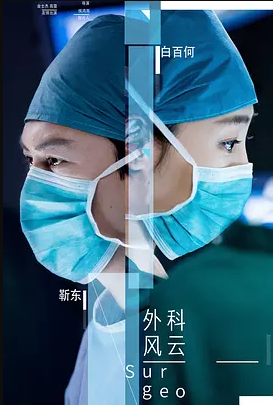mask: (18, 167, 120, 286), (150, 164, 251, 262)
